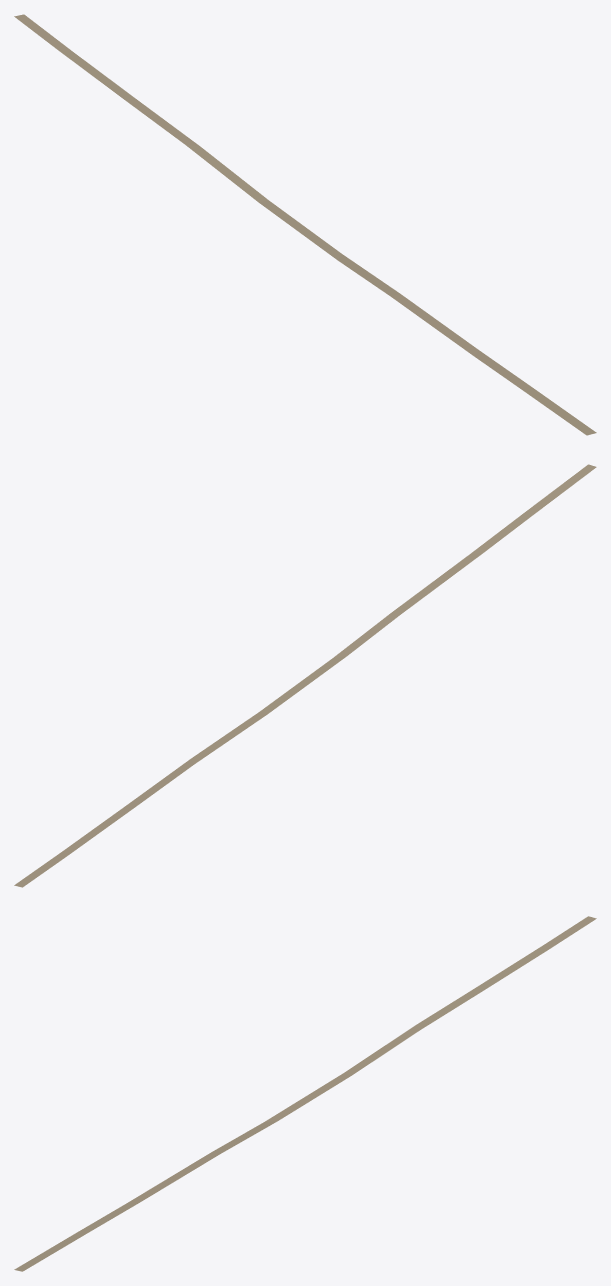
The model's file is farm_8_17_track.glb.
3 views of the same model, one above another, from view 1: azimuth 30°, elevation 25°; view 2: azimuth 150°, elevation 25°; view 3: azimuth 330°, elevation 25° (orthographic). The views are drawn at different scales.
Parts seen in each view (by area): view 1: geometry_0; view 2: geometry_0; view 3: geometry_0.
Boxes of the visible parts, x1,y1,x2,y2 form: geometry_0: (14, 14, 596, 435); geometry_0: (14, 464, 596, 887); geometry_0: (14, 916, 596, 1271).
Size of the model in its own units: 15.97 by 12.06 by 348.
